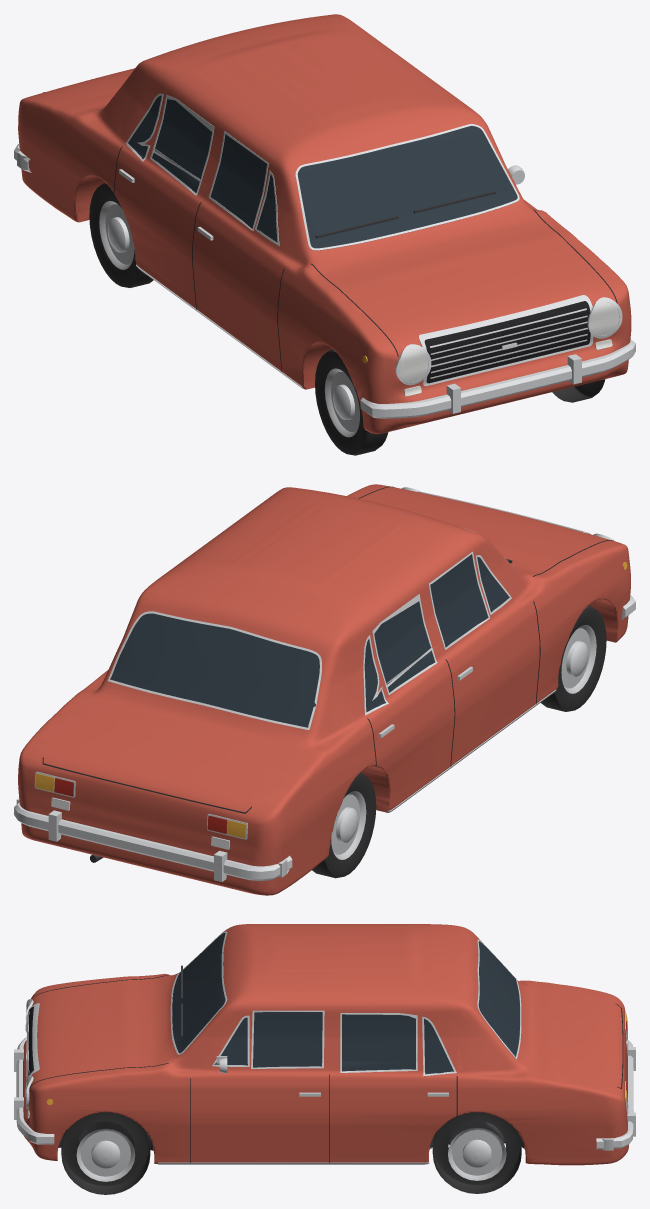
Rendered from fiat124.glb.
3 renders of one model, top to bottom at view 1: azimuth 30°, elevation 25°; view 2: azimuth 150°, elevation 25°; view 3: azimuth 270°, elevation 25°, orthographic. The views are drawn at different scales.
Visible parts, largest first — view 1: paint, glass, trim, wheel_fr, wheel_rr, headlights, wheel_fl; view 2: paint, glass, trim, wheel_fr, wheel_rr, taillights; view 3: paint, glass, trim, wheel_fl, wheel_rl.
Part boxes in pixels (x1,y1,x2,y2): paint: (18,14,631,434); glass: (128,95,517,248); trim: (14,92,635,418); wheel_fr: (315,349,388,455); wheel_rr: (89,182,153,287); headlights: (400,302,619,382); wheel_fl: (552,379,605,402); paint: (18,484,630,895); glass: (110,554,509,727); trim: (14,486,635,881); wheel_fr: (541,605,606,711); wheel_rr: (312,772,376,878); taillights: (54,778,227,833); paint: (23,924,628,1165); glass: (172,933,519,1074); trim: (14,931,635,1164); wheel_fl: (61,1112,150,1194); wheel_rl: (432,1112,521,1193).
Bounding box in the file's own units: 1.64 × 1.42 × 4.05.
